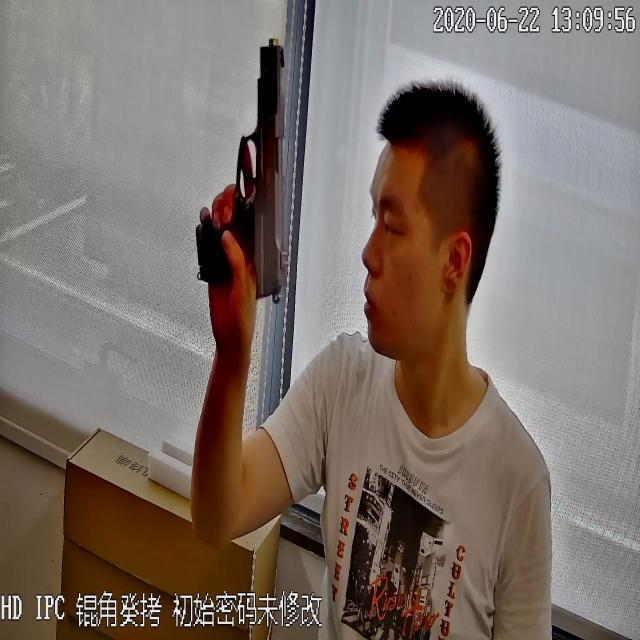gun-knife-thesis - v11 Yolov5 augmented: (190, 35, 312, 324)
